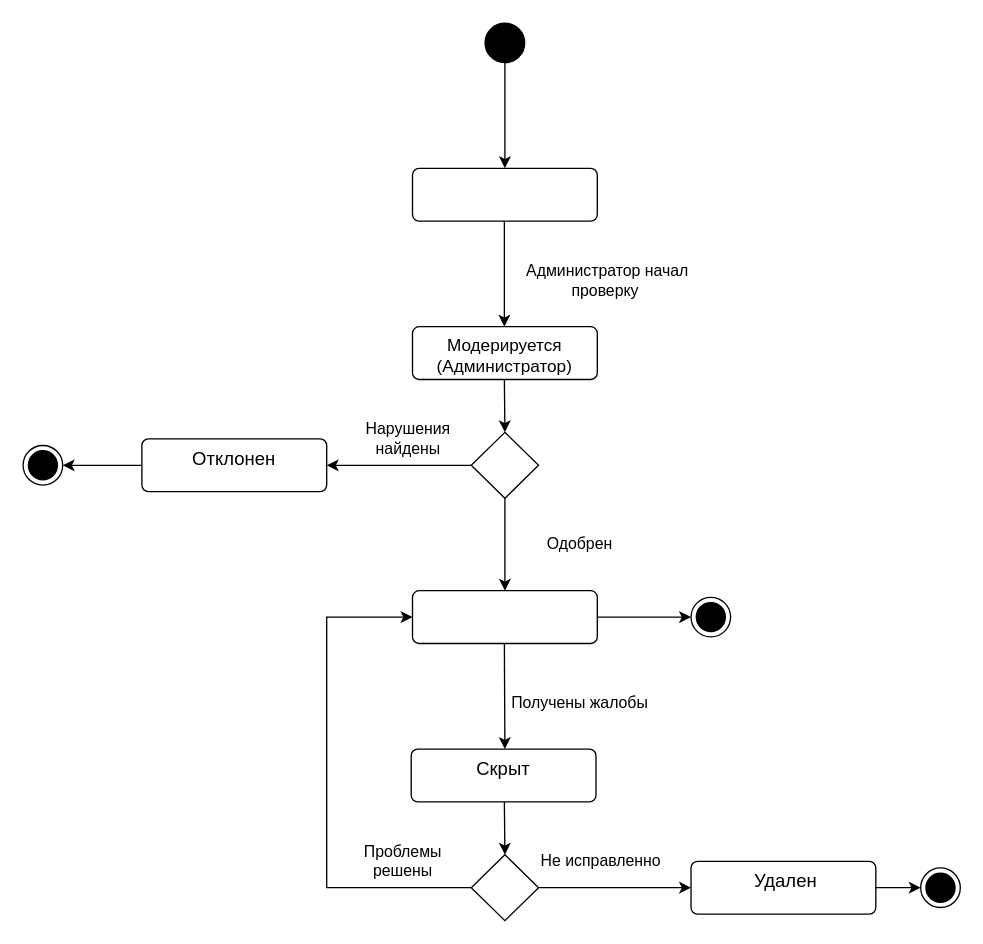
The diagram is 983 pixels wide and 944 high, and some of its shapes have lost their labels. Each missing label, with the centre of its shape:
"В обработке (черновик)" goes at pixel 504 194.
"Опубликован" goes at pixel 504 616.
